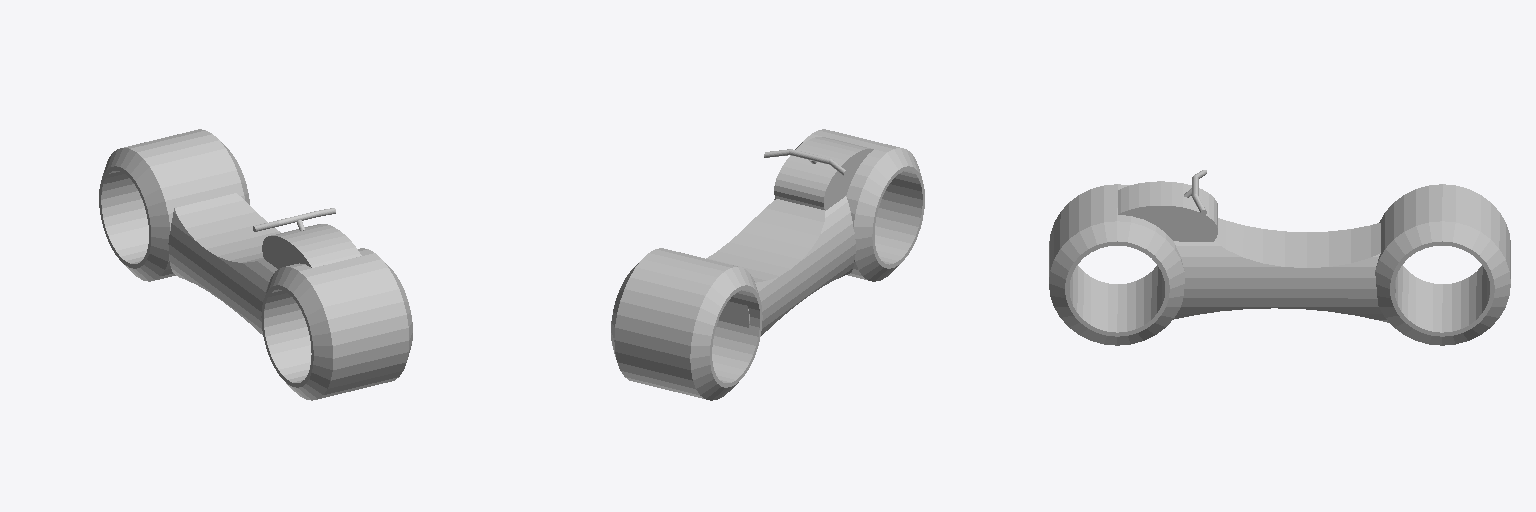
Rendered from bike.obj.
The picture shows the model from 3 angles: view 1: azimuth 30°, elevation 25°; view 2: azimuth 150°, elevation 25°; view 3: azimuth 270°, elevation 25°; orthographic projection.
Parts seen in each view (by area): view 1: 円柱.001, 円柱, 円柱.002, 円柱.003; view 2: 円柱, 円柱.002, 円柱.001, 円柱.003, 円柱.005; view 3: 円柱.002, 円柱, 円柱.001, 円柱.003.
Part boxes in pixels (bbox=[...]): 円柱.001: bbox=[261, 248, 412, 400]; 円柱: bbox=[99, 129, 249, 281]; 円柱.002: bbox=[168, 193, 280, 334]; 円柱.003: bbox=[262, 224, 361, 268]; 円柱: bbox=[611, 248, 762, 400]; 円柱.002: bbox=[706, 196, 855, 335]; 円柱.001: bbox=[774, 129, 924, 281]; 円柱.003: bbox=[774, 137, 873, 210]; 円柱.005: bbox=[764, 149, 846, 176]; 円柱.002: bbox=[1173, 218, 1395, 322]; 円柱: bbox=[1375, 184, 1510, 345]; 円柱.001: bbox=[1049, 184, 1184, 345]; 円柱.003: bbox=[1118, 181, 1217, 241].
Bounding box in the file's own units: 1 × 1.37 × 4.04.